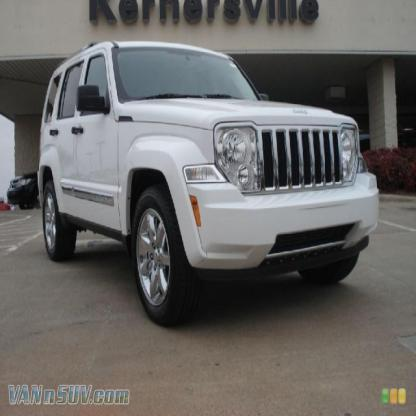Vehicle: (37, 37, 379, 326)
